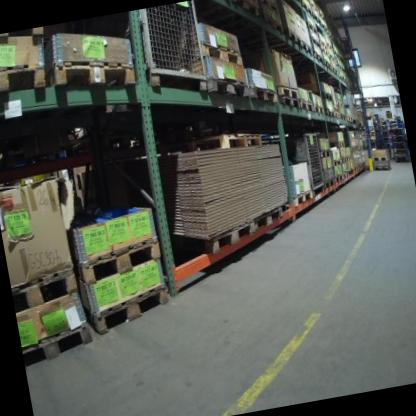pallet: (73, 234, 167, 289), (84, 283, 178, 338), (44, 50, 136, 101), (19, 321, 96, 370), (9, 265, 83, 315), (185, 125, 263, 157), (201, 218, 260, 256), (196, 32, 243, 72), (0, 57, 48, 95), (204, 71, 250, 103), (251, 204, 287, 232), (246, 79, 278, 107), (230, 0, 259, 21), (262, 10, 284, 36), (274, 81, 299, 102), (276, 91, 300, 112), (290, 188, 315, 208), (285, 26, 302, 49), (258, 0, 279, 16), (298, 98, 314, 113), (300, 38, 313, 56), (300, 0, 313, 16), (306, 21, 318, 36), (309, 34, 321, 49), (374, 163, 391, 173), (323, 177, 336, 189), (372, 153, 389, 162), (321, 90, 333, 102), (313, 103, 324, 115), (319, 148, 332, 158), (313, 12, 321, 26), (324, 108, 335, 118), (332, 140, 345, 148), (334, 172, 344, 182), (332, 158, 342, 167), (320, 38, 327, 50), (336, 99, 343, 108), (340, 156, 347, 164), (339, 112, 346, 120), (346, 115, 353, 123), (342, 170, 349, 178), (334, 111, 340, 119), (351, 144, 357, 151), (346, 155, 352, 162)
stillage: (121, 0, 213, 103), (278, 125, 330, 207)
